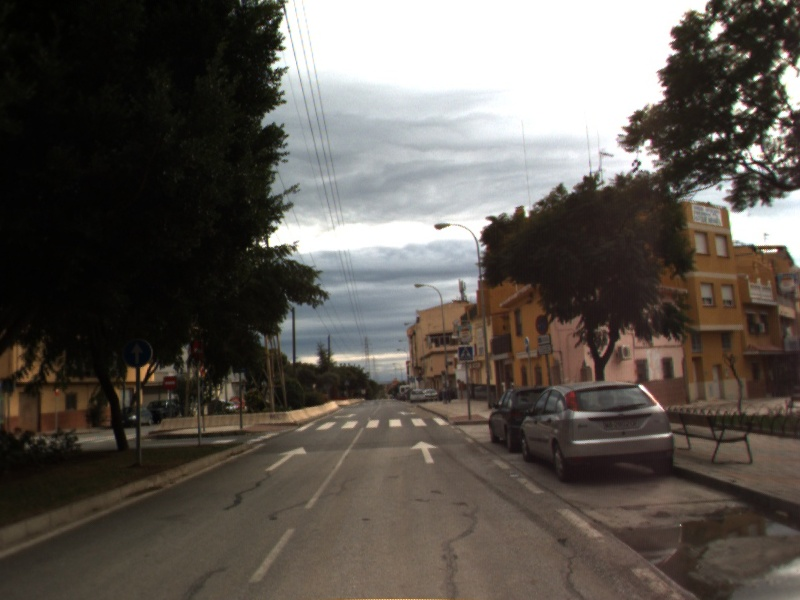STRAIGHT: (263, 444, 309, 473), (407, 439, 440, 465)
